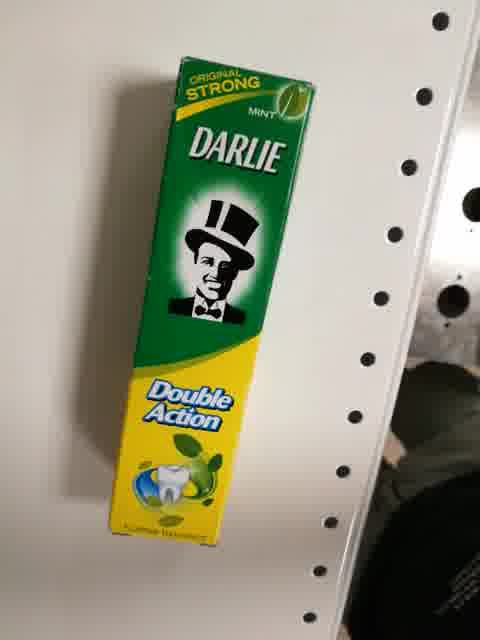toothpaste: (107, 54, 317, 550)
